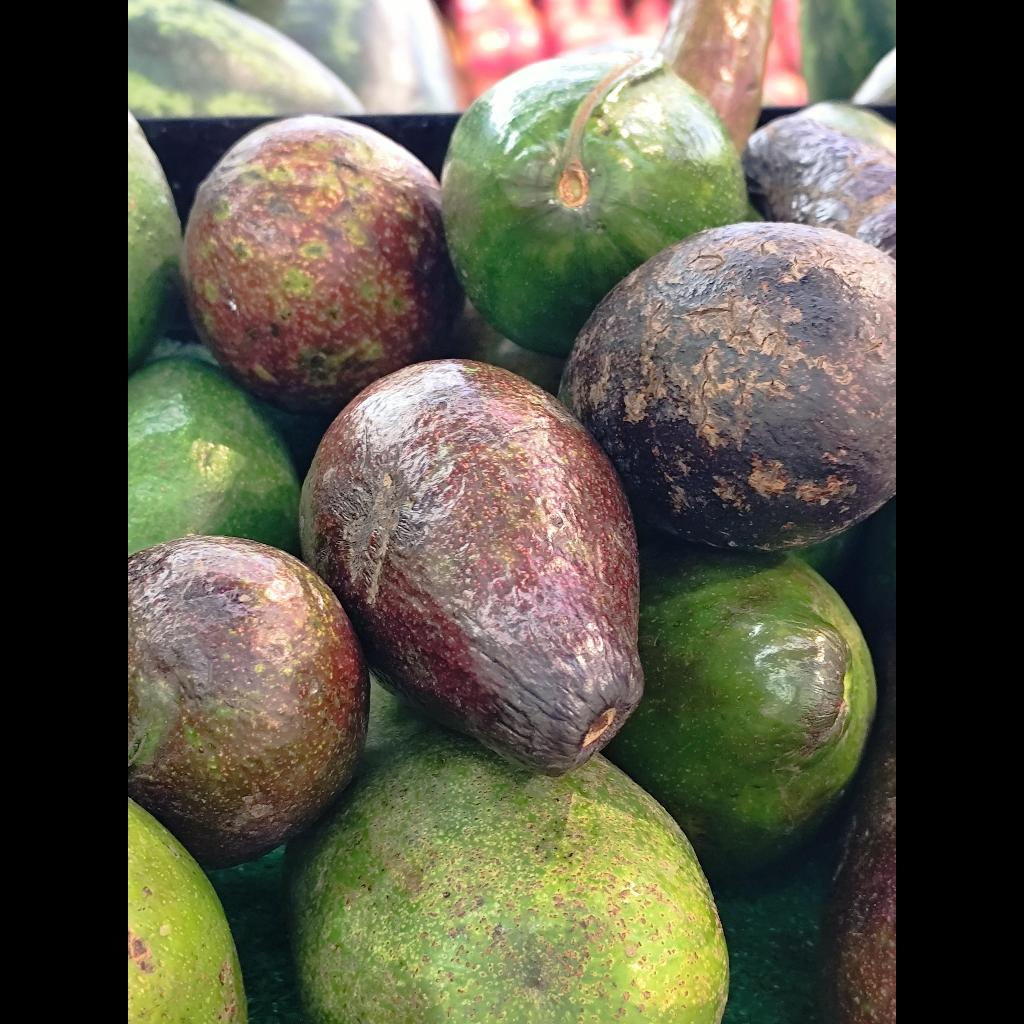anthracnose: (299, 359, 643, 775), (560, 222, 896, 550), (182, 116, 464, 414), (128, 536, 369, 867)
healthy: (285, 682, 728, 1024)
